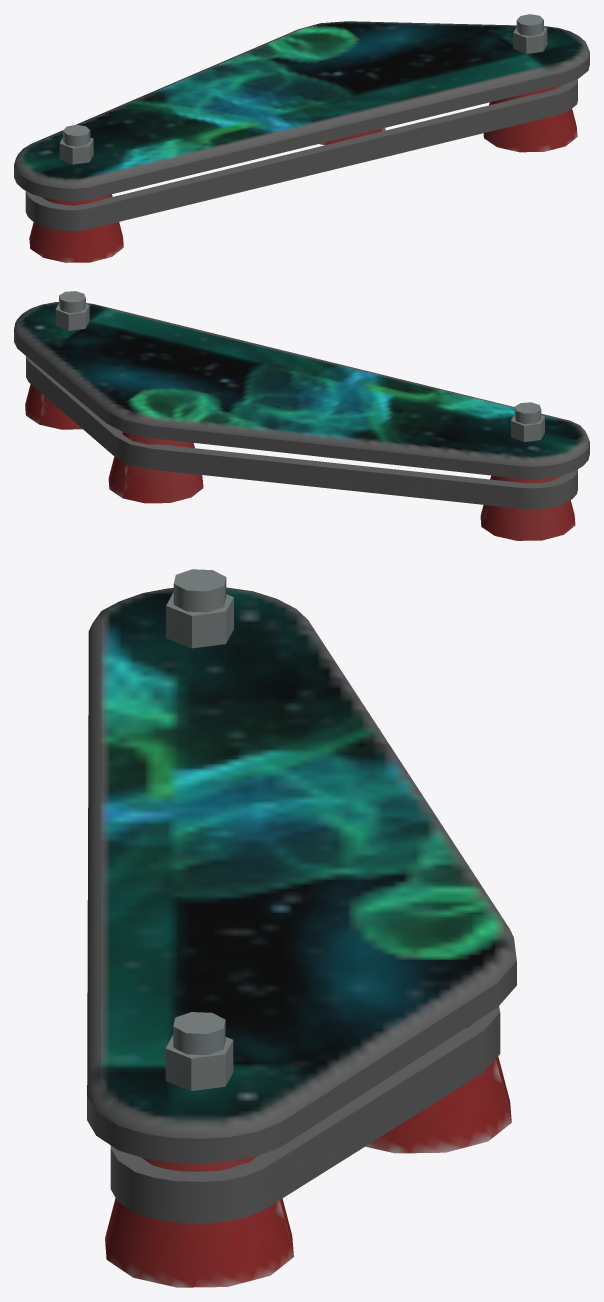
The model's file is SmallBase.glb.
3 views of the same model, one above another, from view 1: azimuth 30°, elevation 25°; view 2: azimuth 150°, elevation 25°; view 3: azimuth 270°, elevation 25° (orthographic). The views are drawn at different scales.
Visible parts, largest first — view 1: MediumBumper.001; view 2: MediumBumper.001; view 3: MediumBumper.001.
Part boxes in pixels (x1,y1,x2,y2): MediumBumper.001: (14,14,589,262); MediumBumper.001: (14,291,589,540); MediumBumper.001: (87,569,516,1287).
Bounding box in the file's own units: 0.2092 × 0.0402 × 0.0697.
Materials: 1 (1 with a texture image).
